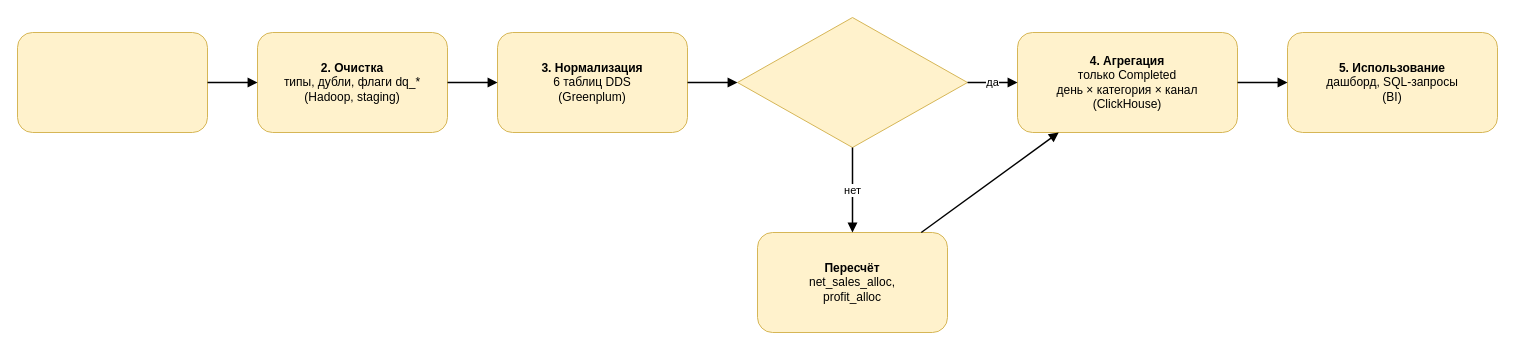
Some shapes in this 1515 by 350 pixel diagram are drawn without their labels. Each missing label, with the centre of its shape:
"1. Загрузка CSV-файлы → raw (Hadoop)" goes at (112,82).
"Сумма позиций = сумме заказа?" goes at (852,82).
